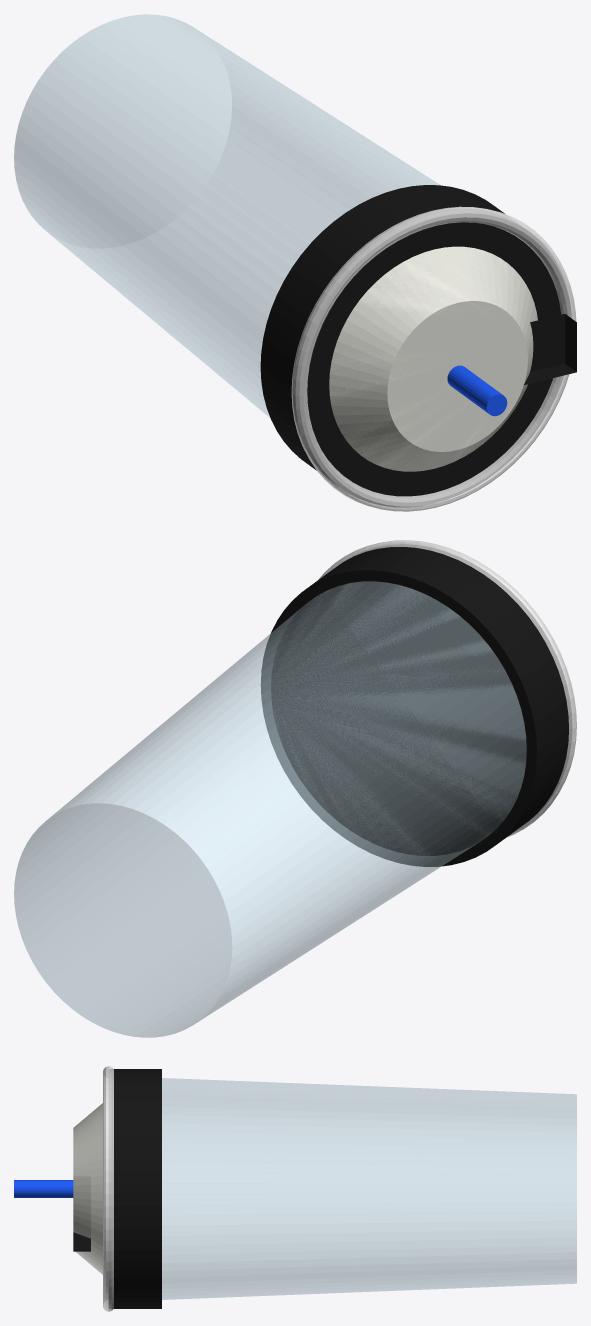
The model's file is azas_tumbler_shaker.obj.
3 views of the same model, one above another, from view 1: azimuth 30°, elevation 25°; view 2: azimuth 150°, elevation 25°; view 3: azimuth 270°, elevation 25° (orthographic). The views are drawn at different scales.
Visible parts, largest first — view 1: azas_tumbler_shaker; view 2: azas_tumbler_shaker; view 3: azas_tumbler_shaker.
Boxes of the visible parts, x1,y1,x2,y2 form: azas_tumbler_shaker: (14,14,576,511); azas_tumbler_shaker: (14,540,576,1037); azas_tumbler_shaker: (14,1066,576,1311).
Size of the model in its own units: 0.083 by 0.083 by 0.19.
